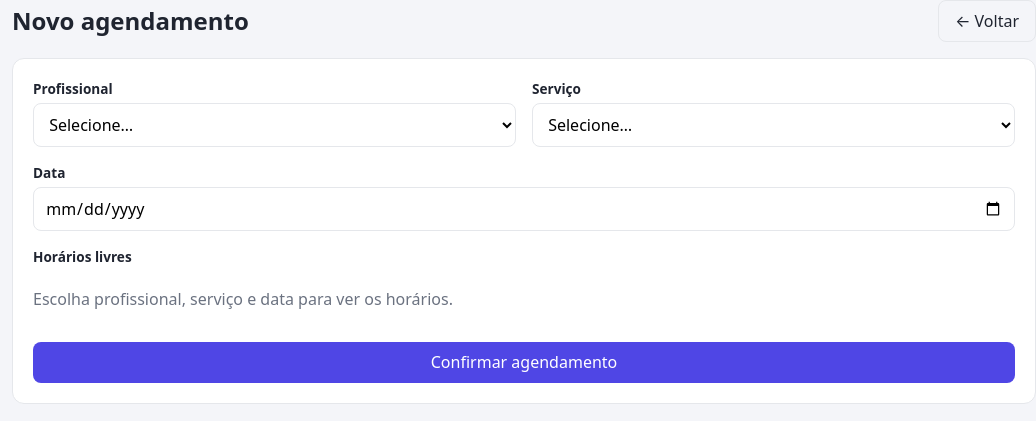
Test: NewAppointmentPage › explains when a day has no free slots
Select "Ana Souza · Cabeleireira" in the dropdown labelled "Profissional": (274, 125) [33,103,516,147]
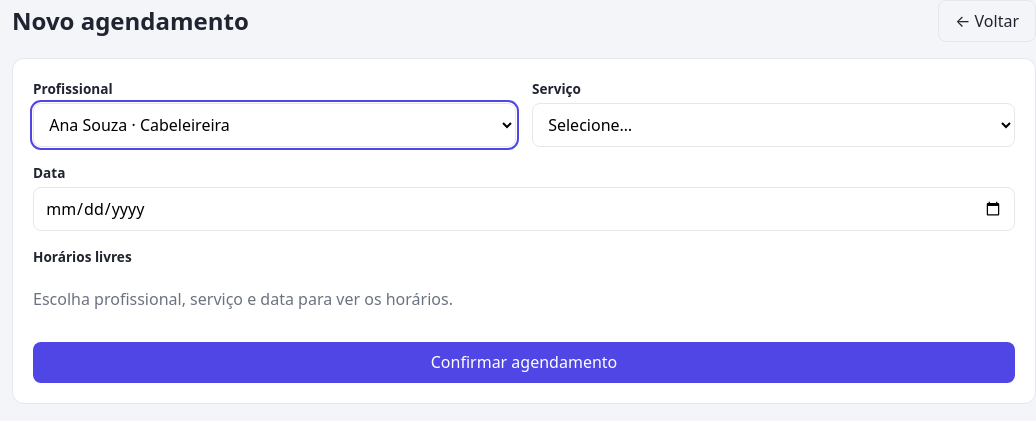
Select "Corte feminino · 60 min · R$ 80,00" in the dropdown labelled "Serviço": (774, 125) [532,103,1015,147]
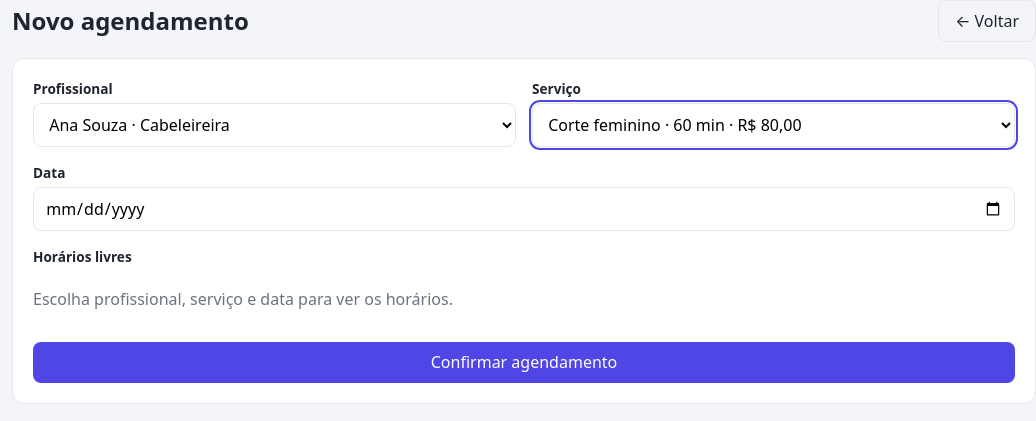
In the date field labelled "Data": (524, 209) [33,187,1015,231], type "2030-01-07"
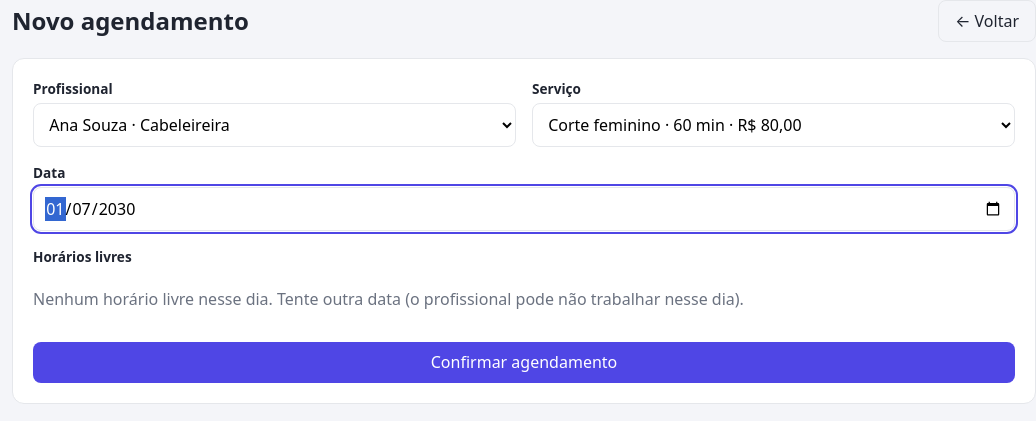
expect the text "Nenhum horário livre nesse dia" is shown: met, box [33,288,744,310]
